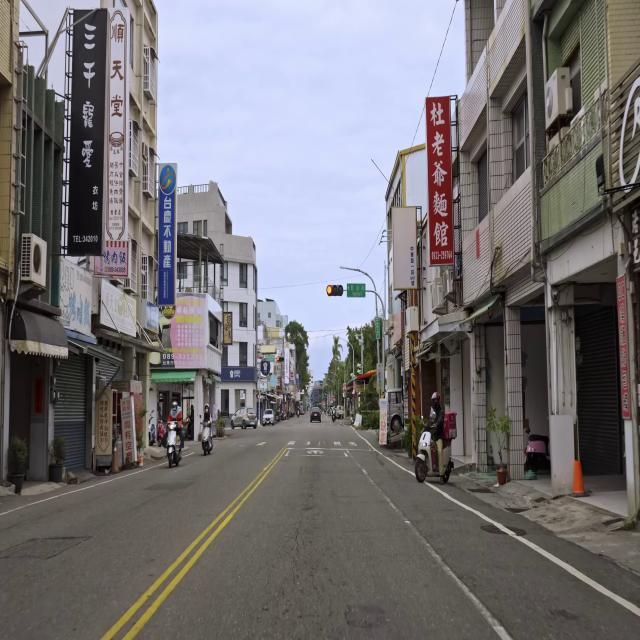red light: (326, 284, 344, 298), (276, 356, 284, 362)
